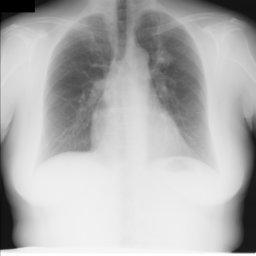left lobe: (136, 12, 209, 158)
right lobe: (47, 15, 113, 154)
